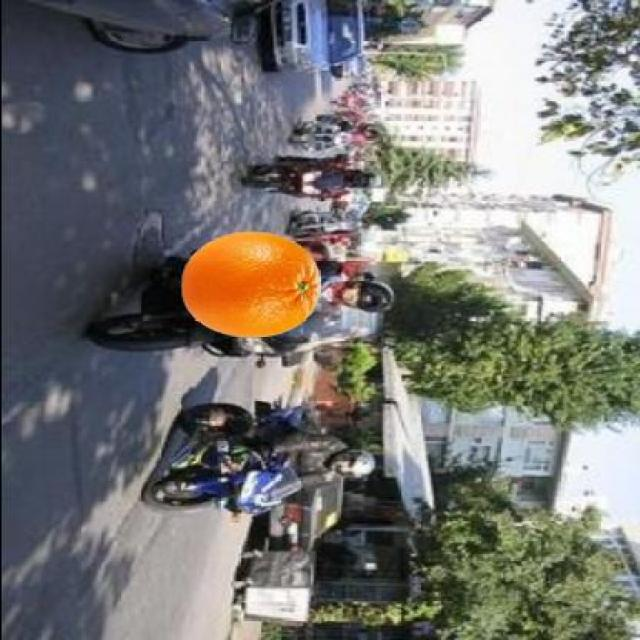Orange: (178, 230, 320, 338)
